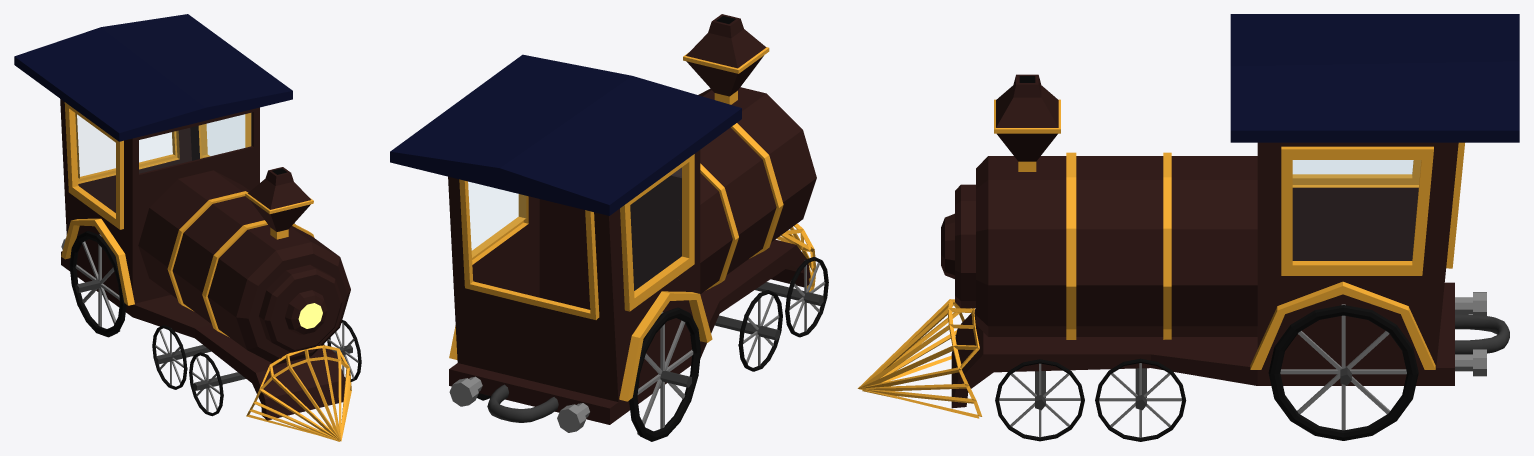
File: wagon.glb
The picture shows the model from 3 angles, left to right: view 1: azimuth 30°, elevation 25°; view 2: azimuth 150°, elevation 25°; view 3: azimuth 270°, elevation 25°; orthographic projection. The views are drawn at different scales.
Visible parts, largest first — view 1: EngineBody, EngineBoiler, EngineCowCatcher, EngineWheel3, EngineSpokes3, EngineWheel1, EngineSpokes1, EngineWheel2, EngineAxle1, EngineAxle2, EngineSpokes2; view 2: EngineBody, EngineBoiler, EngineWheel3, EngineSpokes3, EngineBackShock, EngineConnectorLoop, EngineWheel1, EngineWheel2, EngineCowCatcher, EngineAxle2, EngineAxle1, EngineSpokes2 (+1 smaller); view 3: EngineBody, EngineBoiler, EngineCowCatcher, EngineWheel3, EngineSpokes3, EngineConnectorLoop, EngineBackShock, EngineWheel2, EngineWheel1, EngineSpokes2, EngineSpokes1.
Boxes of the visible parts, <box> form: EngineBody: <box>14,14,345,420</box>; EngineBoiler: <box>138,167,350,364</box>; EngineCowCatcher: <box>246,345,351,441</box>; EngineWheel3: <box>69,231,126,337</box>; EngineSpokes3: <box>75,234,120,331</box>; EngineWheel1: <box>189,320,361,416</box>; EngineSpokes1: <box>192,322,358,411</box>; EngineWheel2: <box>152,325,324,389</box>; EngineAxle1: <box>193,345,352,390</box>; EngineAxle2: <box>154,345,211,364</box>; EngineSpokes2: <box>155,329,187,385</box>; EngineBody: <box>390,54,810,424</box>; EngineBoiler: <box>548,14,816,308</box>; EngineWheel3: <box>477,307,700,441</box>; EngineSpokes3: <box>637,312,693,435</box>; EngineBackShock: <box>449,376,589,432</box>; EngineConnectorLoop: <box>487,384,558,422</box>; EngineWheel1: <box>785,257,828,337</box>; EngineWheel2: <box>738,290,782,371</box>; EngineCowCatcher: <box>776,223,815,292</box>; EngineAxle2: <box>714,315,779,340</box>; EngineAxle1: <box>755,282,823,305</box>; EngineSpokes2: <box>738,293,779,365</box>; EngineBody: <box>951,14,1519,408</box>; EngineBoiler: <box>941,74,1257,339</box>; EngineCowCatcher: <box>857,299,982,418</box>; EngineWheel3: <box>1268,305,1418,440</box>; EngineSpokes3: <box>1280,304,1406,430</box>; EngineConnectorLoop: <box>1455,314,1509,354</box>; EngineBackShock: <box>1455,292,1486,376</box>; EngineWheel2: <box>1095,358,1186,441</box>; EngineWheel1: <box>995,359,1084,441</box>; EngineSpokes2: <box>1099,363,1182,437</box>; EngineSpokes1: <box>999,363,1080,437</box>.
Bounding box in the file's own units: 2.3 × 3.08 × 5.52.
